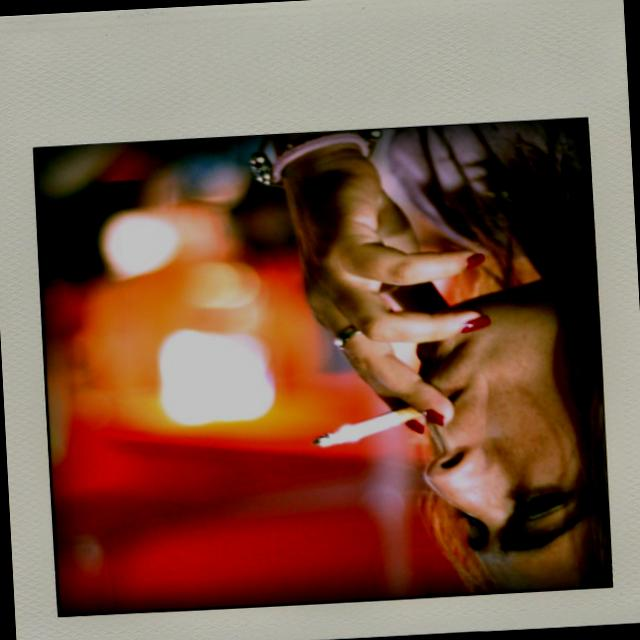smoke: (292, 380, 457, 476)
